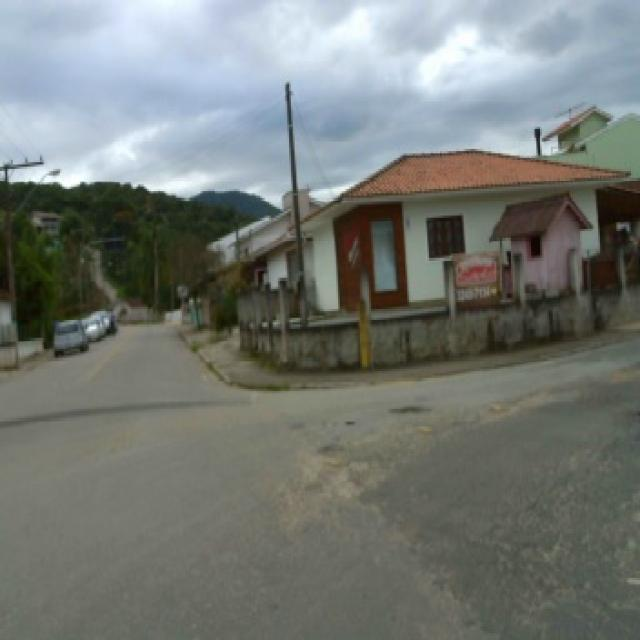Poth-hole: (304, 440, 394, 498), (383, 400, 432, 413), (342, 416, 356, 424)
